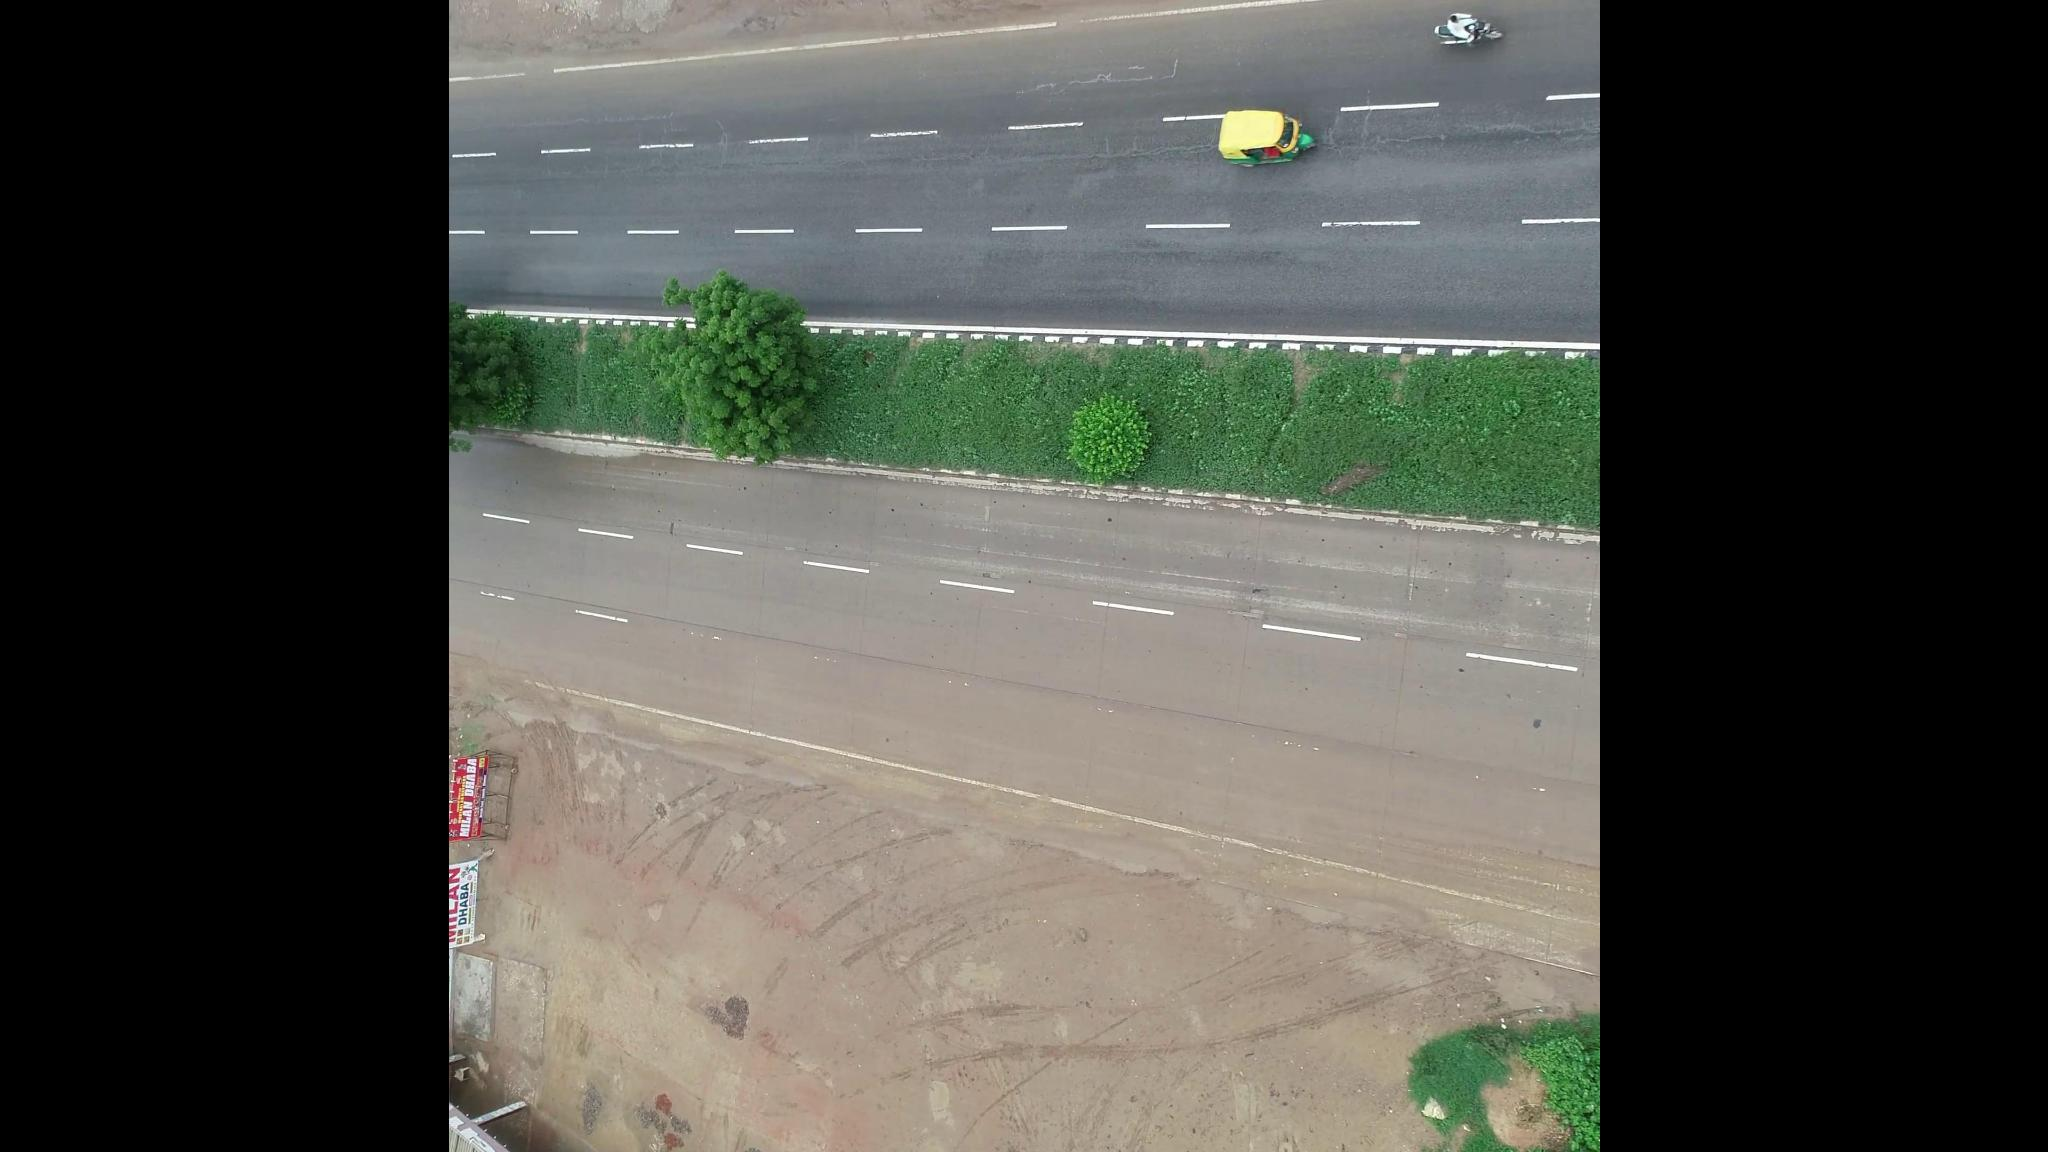Cracks: (1321, 117, 1589, 159), (1009, 49, 1191, 103)
Ravelling: (1062, 135, 1217, 180)
